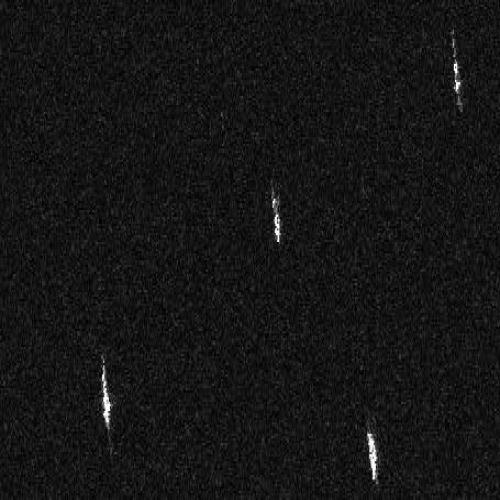ship: (101, 364, 112, 436), (270, 187, 283, 244), (366, 429, 378, 485), (451, 42, 462, 100)
